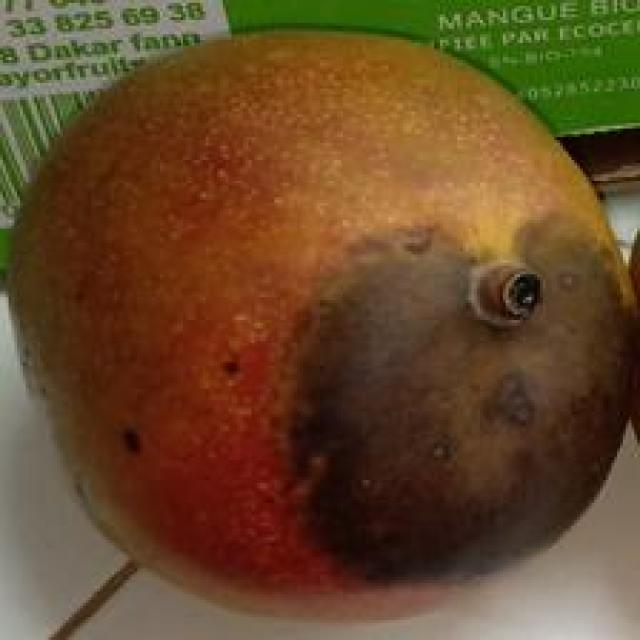Bad_Mango: (10, 38, 631, 617)
